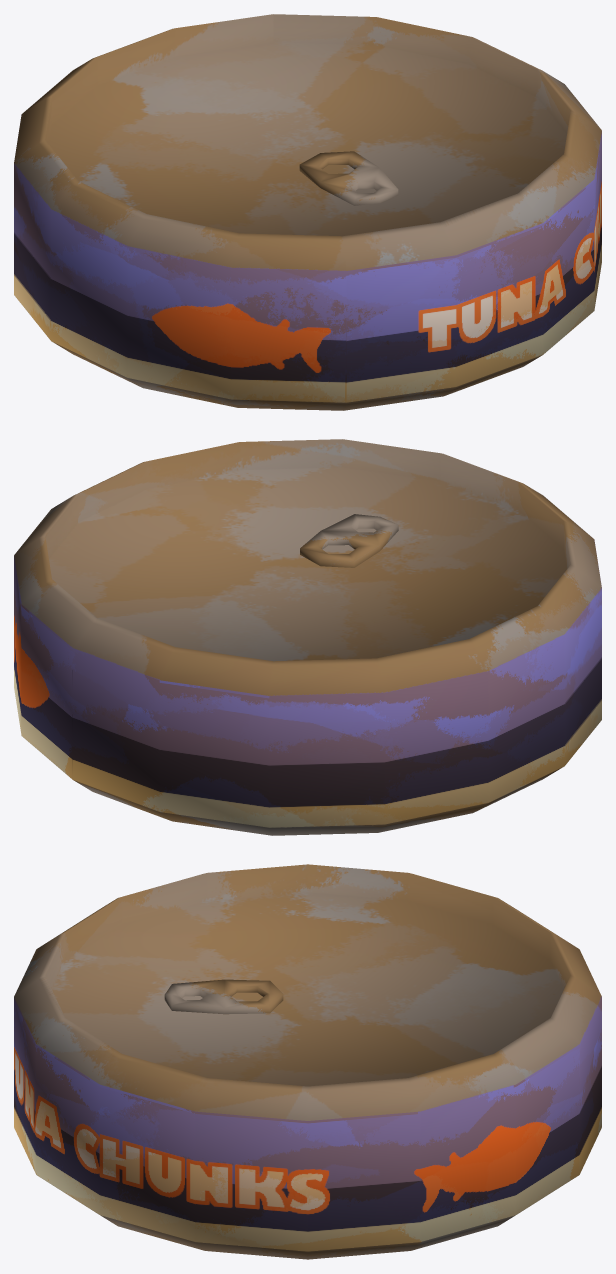
File: Prop_Fish_Tuna.fbx
3 views of the same model, one above another, from view 1: azimuth 30°, elevation 25°; view 2: azimuth 150°, elevation 25°; view 3: azimuth 270°, elevation 25° (orthographic).
Visible parts, largest first — view 1: Tuna; view 2: Tuna; view 3: Tuna.
Part boxes in pixels (bbox=[...]): Tuna: bbox=[14, 14, 601, 410]; Tuna: bbox=[14, 439, 601, 835]; Tuna: bbox=[14, 864, 601, 1259].
Bounding box in the file's own units: 23.14 × 7.4 × 23.14.
Materials: 1 (1 with a texture image).
